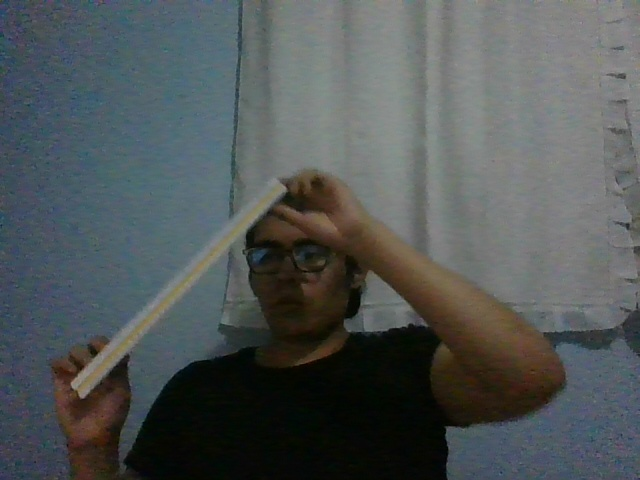regla: (69, 179, 288, 399)
